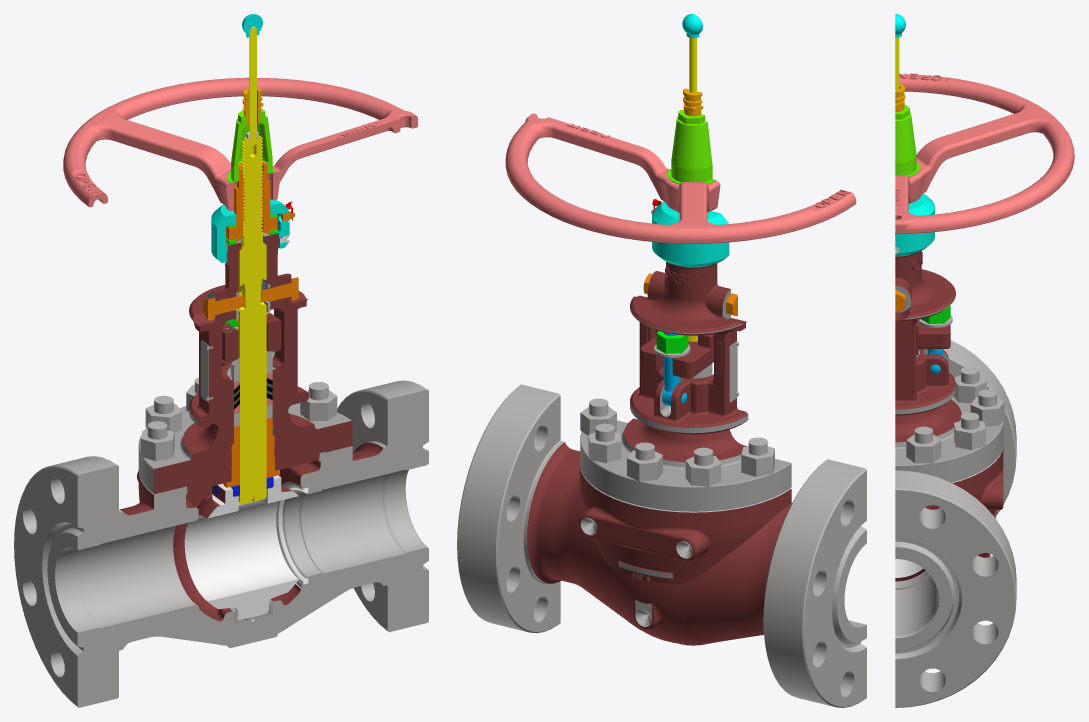
The model's file is 1A-04-900MAT_CUTSECTION_HW_ASSY.glb.
The picture shows the model from 3 angles, left to right: view 1: azimuth 30°, elevation 25°; view 2: azimuth 150°, elevation 25°; view 3: azimuth 270°, elevation 25°; orthographic projection. The views are drawn at different scales.
Visible parts, largest first — view 1: Solid1 (×15); view 2: Solid1 (×10); view 3: Solid1 (×15).
Part boxes in pixels (left/top/right/bottom): Solid1 (×15): left=14, top=26, right=428, bottom=707; Solid1 (×10): left=457, top=109, right=866, bottom=707; Solid1 (×15): left=895, top=73, right=1074, bottom=707.
Bounding box in the file's own units: 0.4604 × 0.8145 × 0.2159.
